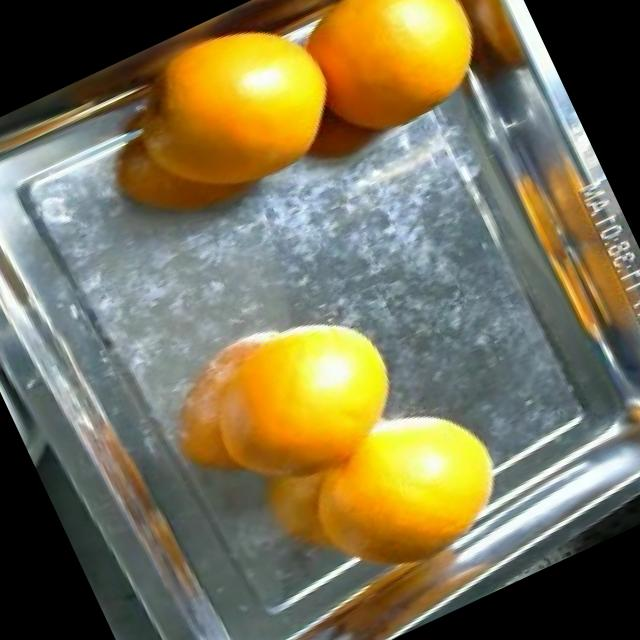Fruit: (328, 372, 538, 584), (224, 280, 426, 482)
